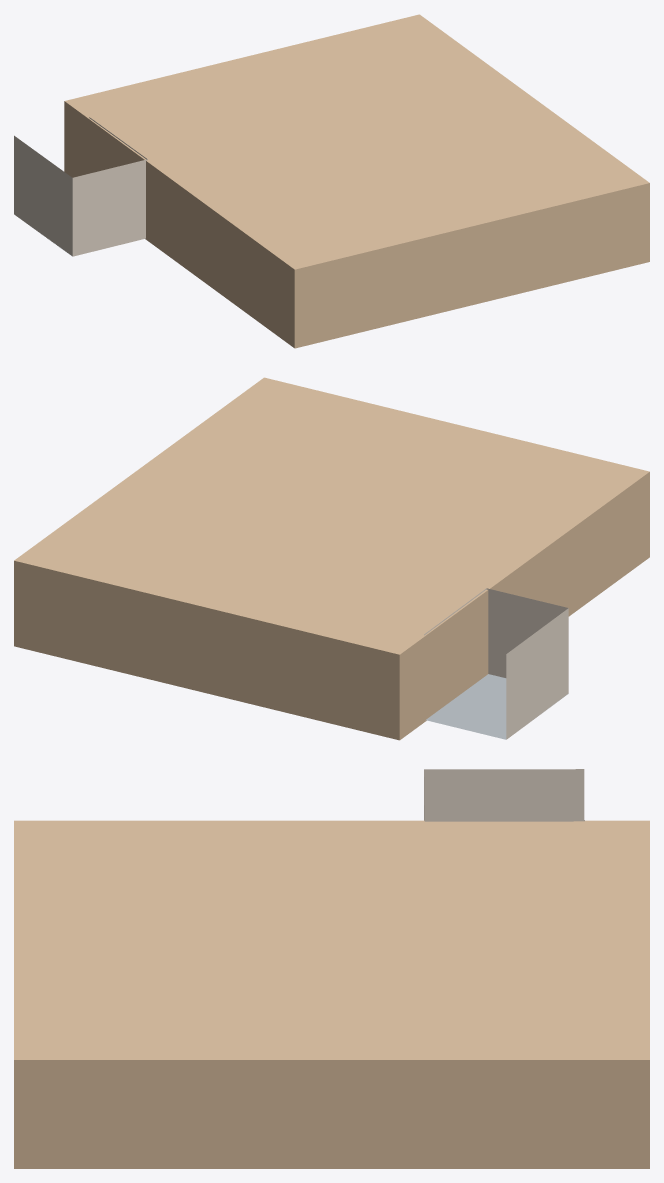
3 renders of one model, top to bottom at view 1: azimuth 30°, elevation 25°; view 2: azimuth 150°, elevation 25°; view 3: azimuth 270°, elevation 25°, orthographic. The views are drawn at different scales.
Parts seen in each view (by area): view 1: Cube.019, 立方體.164; view 2: Cube.019, 立方體.164, 立方體.199; view 3: Cube.019, 立方體.164.
Part boxes in pixels (x1,y1,x2,y2): Cube.019: (64, 14, 649, 348); 立方體.164: (14, 117, 147, 256); Cube.019: (14, 377, 649, 740); 立方體.164: (424, 588, 568, 739); 立方體.199: (425, 674, 568, 739); Cube.019: (14, 820, 649, 1168); 立方體.164: (424, 769, 584, 821).
Bounding box in the file's own units: 17.08 × 3.04 × 15.87.
